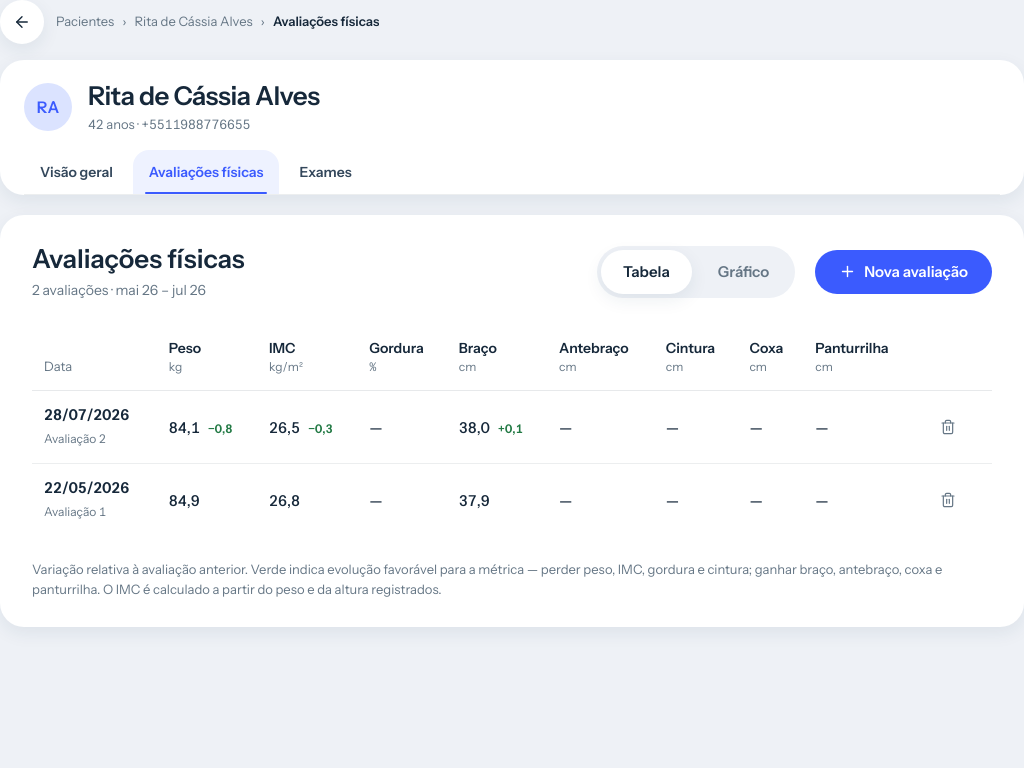
it: o modo individual mostra um card por métrica com último valor e variação
Click the button "Gráfico".
click(744, 272)  # box [696,250,791,294]
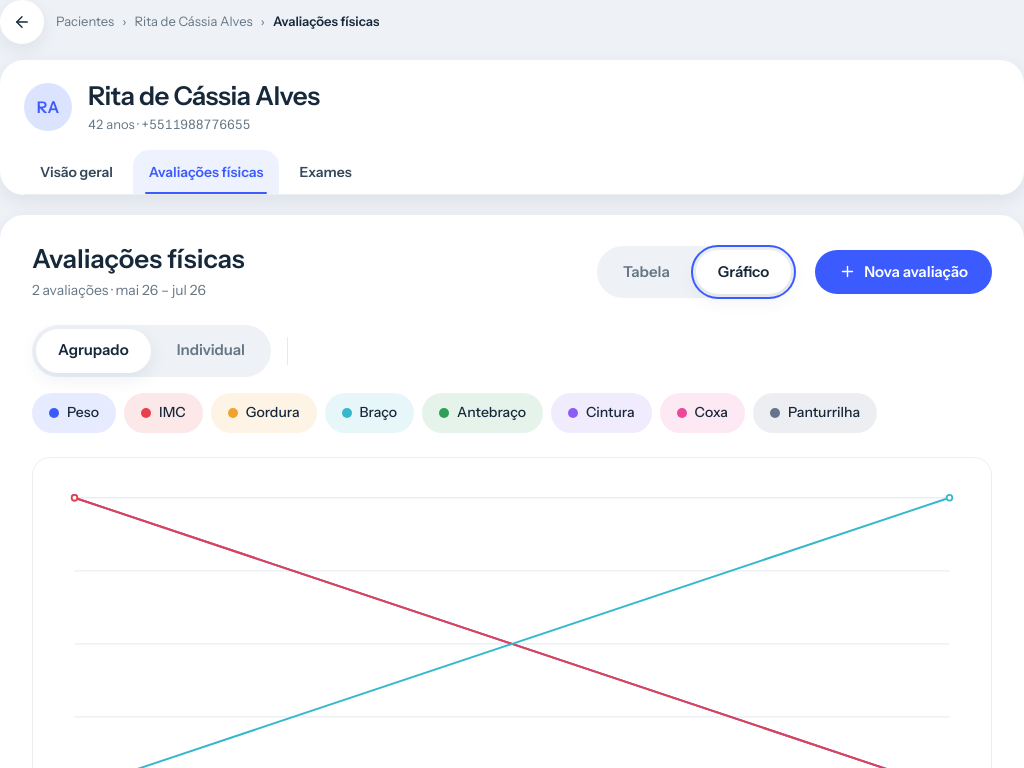
Click the button "Individual".
click(211, 350)  # box [155,328,267,372]
(page scrolled)
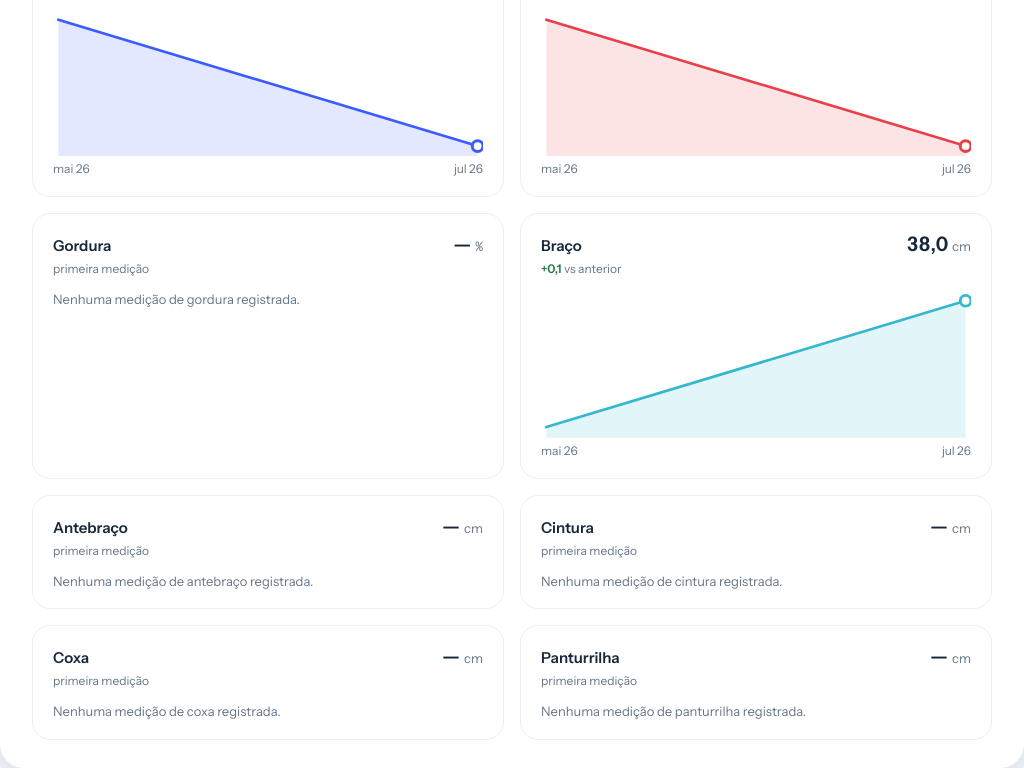
Check: the text "Nenhuma medição de coxa registrada." is shown, box [53,703,280,719]
